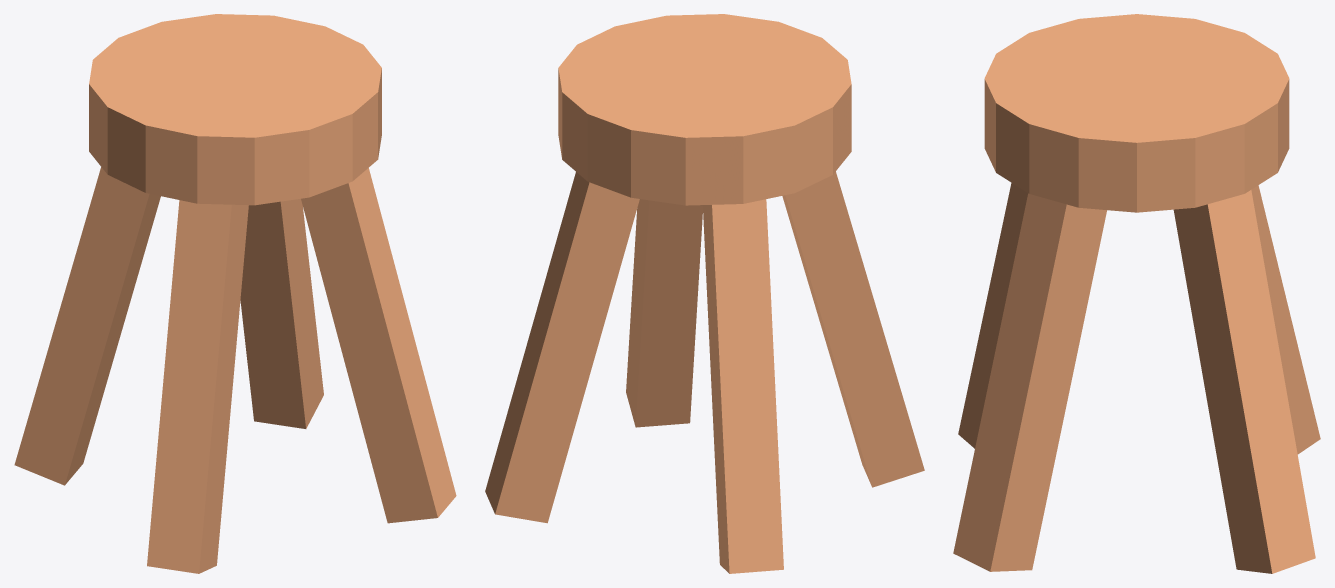
Rendered from Stool.fbx.
3 renders of one model, left to right at view 1: azimuth 30°, elevation 25°; view 2: azimuth 150°, elevation 25°; view 3: azimuth 270°, elevation 25°, orthographic. The views are drawn at different scales.
Visible parts, largest first — view 1: Stool.001; view 2: Stool.001; view 3: Stool.001.
Boxes of the visible parts, left/top/right/bottom form: Stool.001: left=14, top=14, right=456, bottom=573; Stool.001: left=485, top=14, right=924, bottom=573; Stool.001: left=953, top=14, right=1320, bottom=573.
Size of the model in its own units: 52.06 by 67.4 by 52.06.
